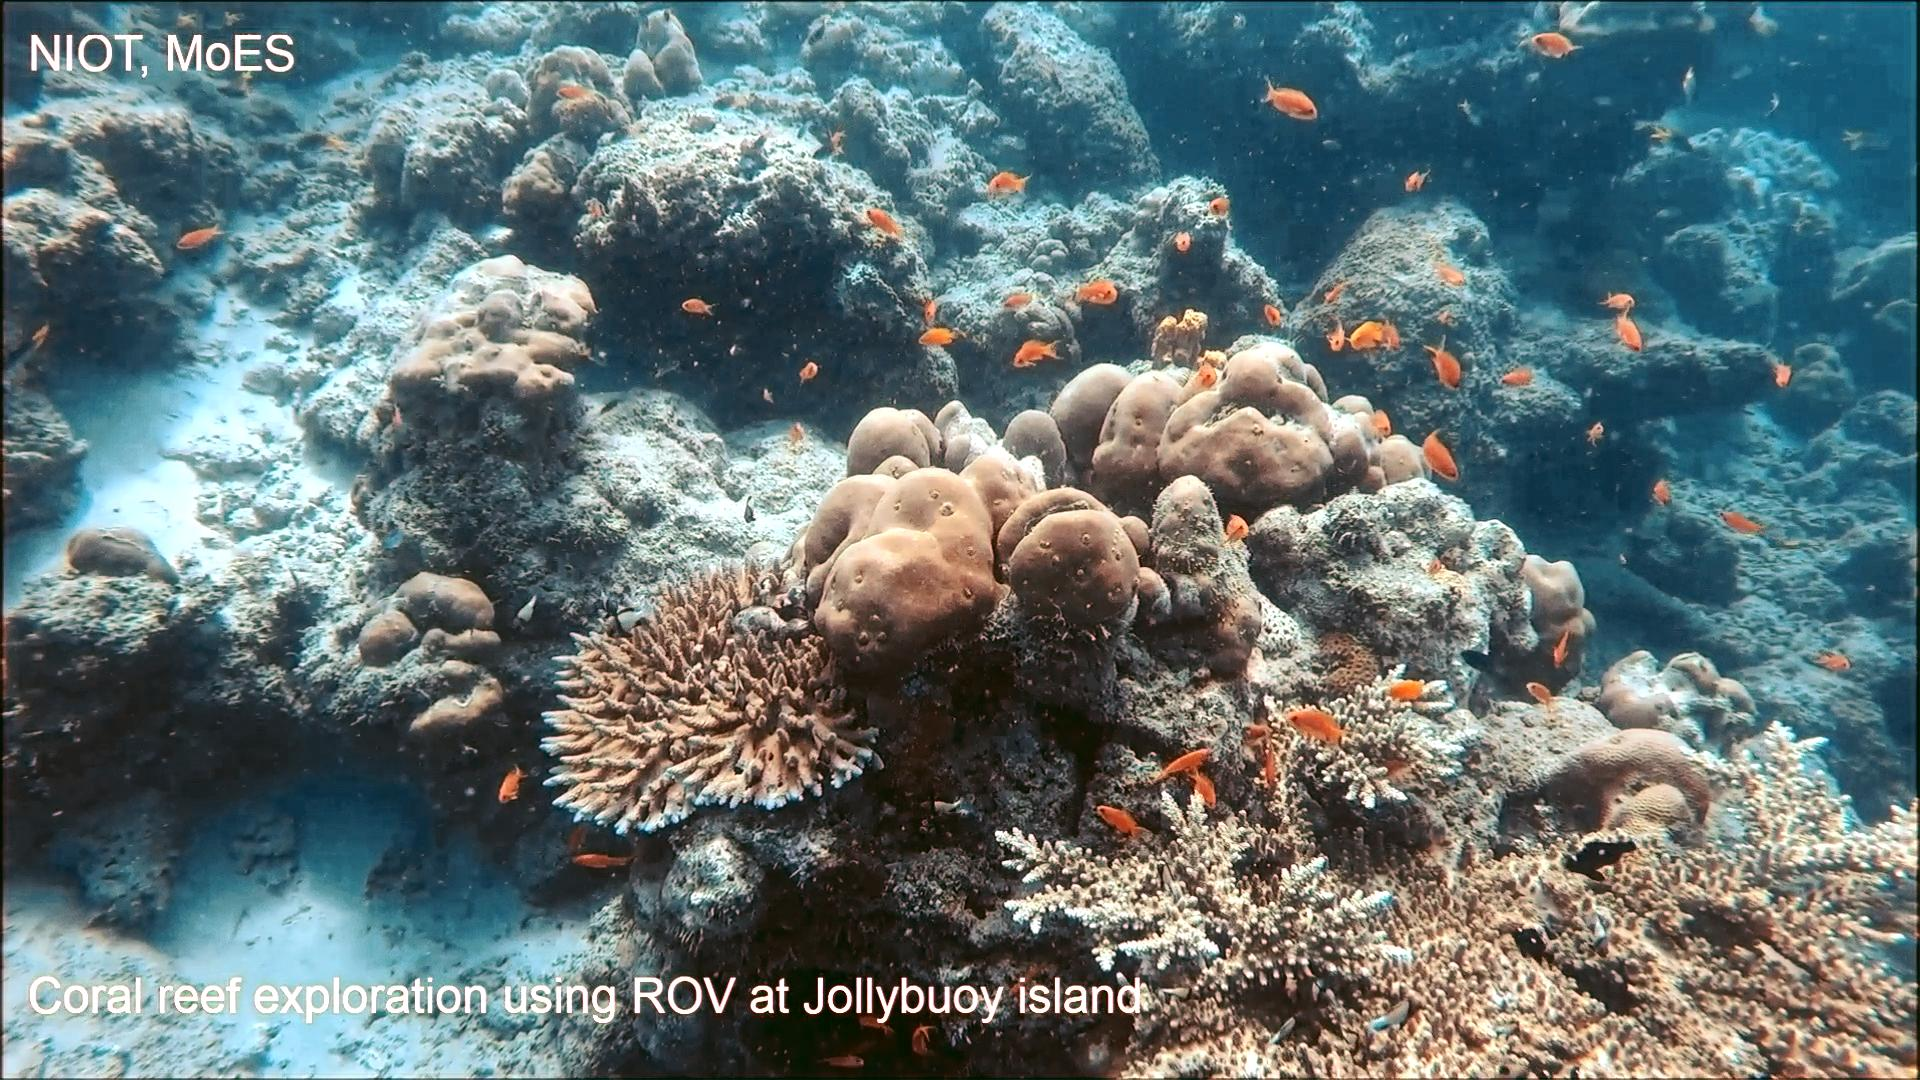Porites-Porites pukoensis: (764, 394, 1142, 683), (1034, 331, 1440, 516)
